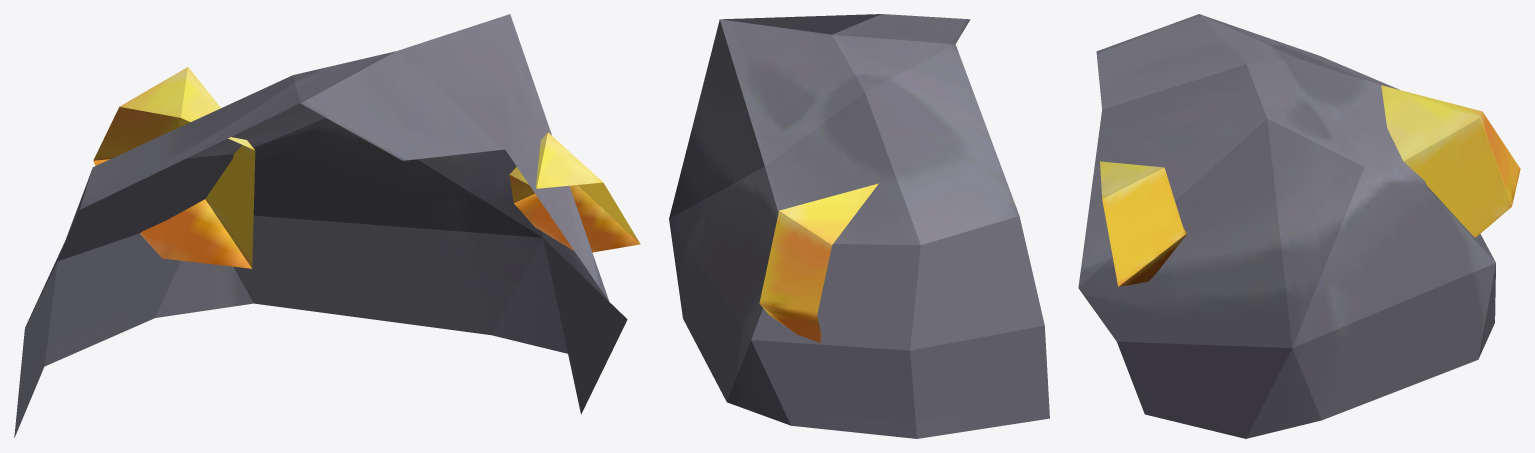
Rendered from RockSmallGold.fbx.
The picture shows the model from 3 angles, left to right: view 1: azimuth 30°, elevation 25°; view 2: azimuth 150°, elevation 25°; view 3: azimuth 270°, elevation 25°; orthographic projection. The views are drawn at different scales.
Visible parts, largest first — view 1: RockMesh, Resource1, Resource2; view 2: RockMesh, Resource1; view 3: RockMesh, Resource1, Resource2.
Boxes of the visible parts, box(x1,y1,x2,y2) form: RockMesh: box(14, 14, 627, 437); Resource1: box(93, 67, 255, 268); Resource2: box(509, 132, 640, 252); RockMesh: box(669, 14, 1049, 438); Resource1: box(759, 183, 878, 344); RockMesh: box(1078, 14, 1495, 438); Resource1: box(1381, 85, 1520, 237); Resource2: box(1100, 161, 1186, 286).
Size of what is drawn, in the model's own units: 1.06 by 0.7005 by 0.9403.
